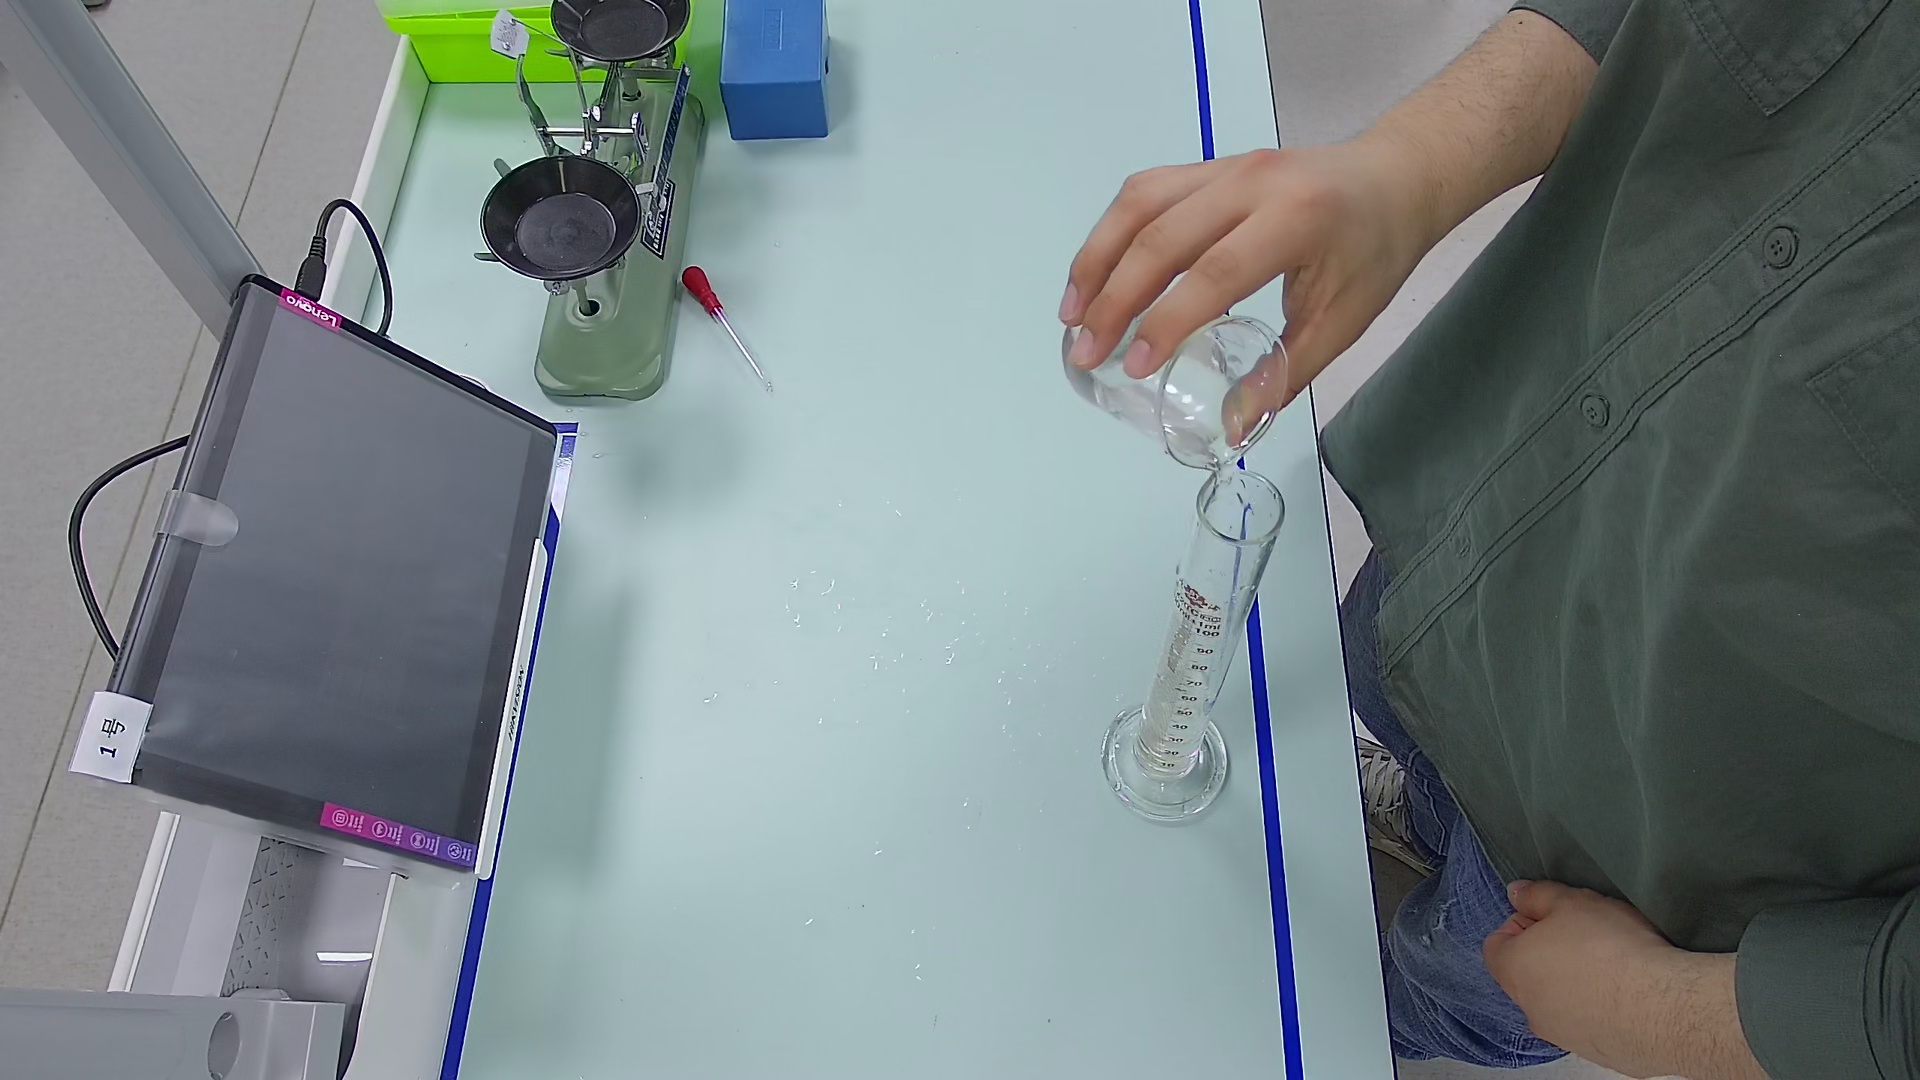ao: (1156, 658, 1226, 702)
bei: (1051, 293, 1298, 477)
diguan: (674, 258, 775, 401)
diguantou: (679, 260, 723, 320)
hand: (1059, 154, 1360, 404), (1486, 877, 1611, 1064)
liangdi: (1104, 707, 1240, 823)
liangtong: (1098, 467, 1294, 820)
tuo: (477, 153, 644, 284), (547, 1, 686, 65)
